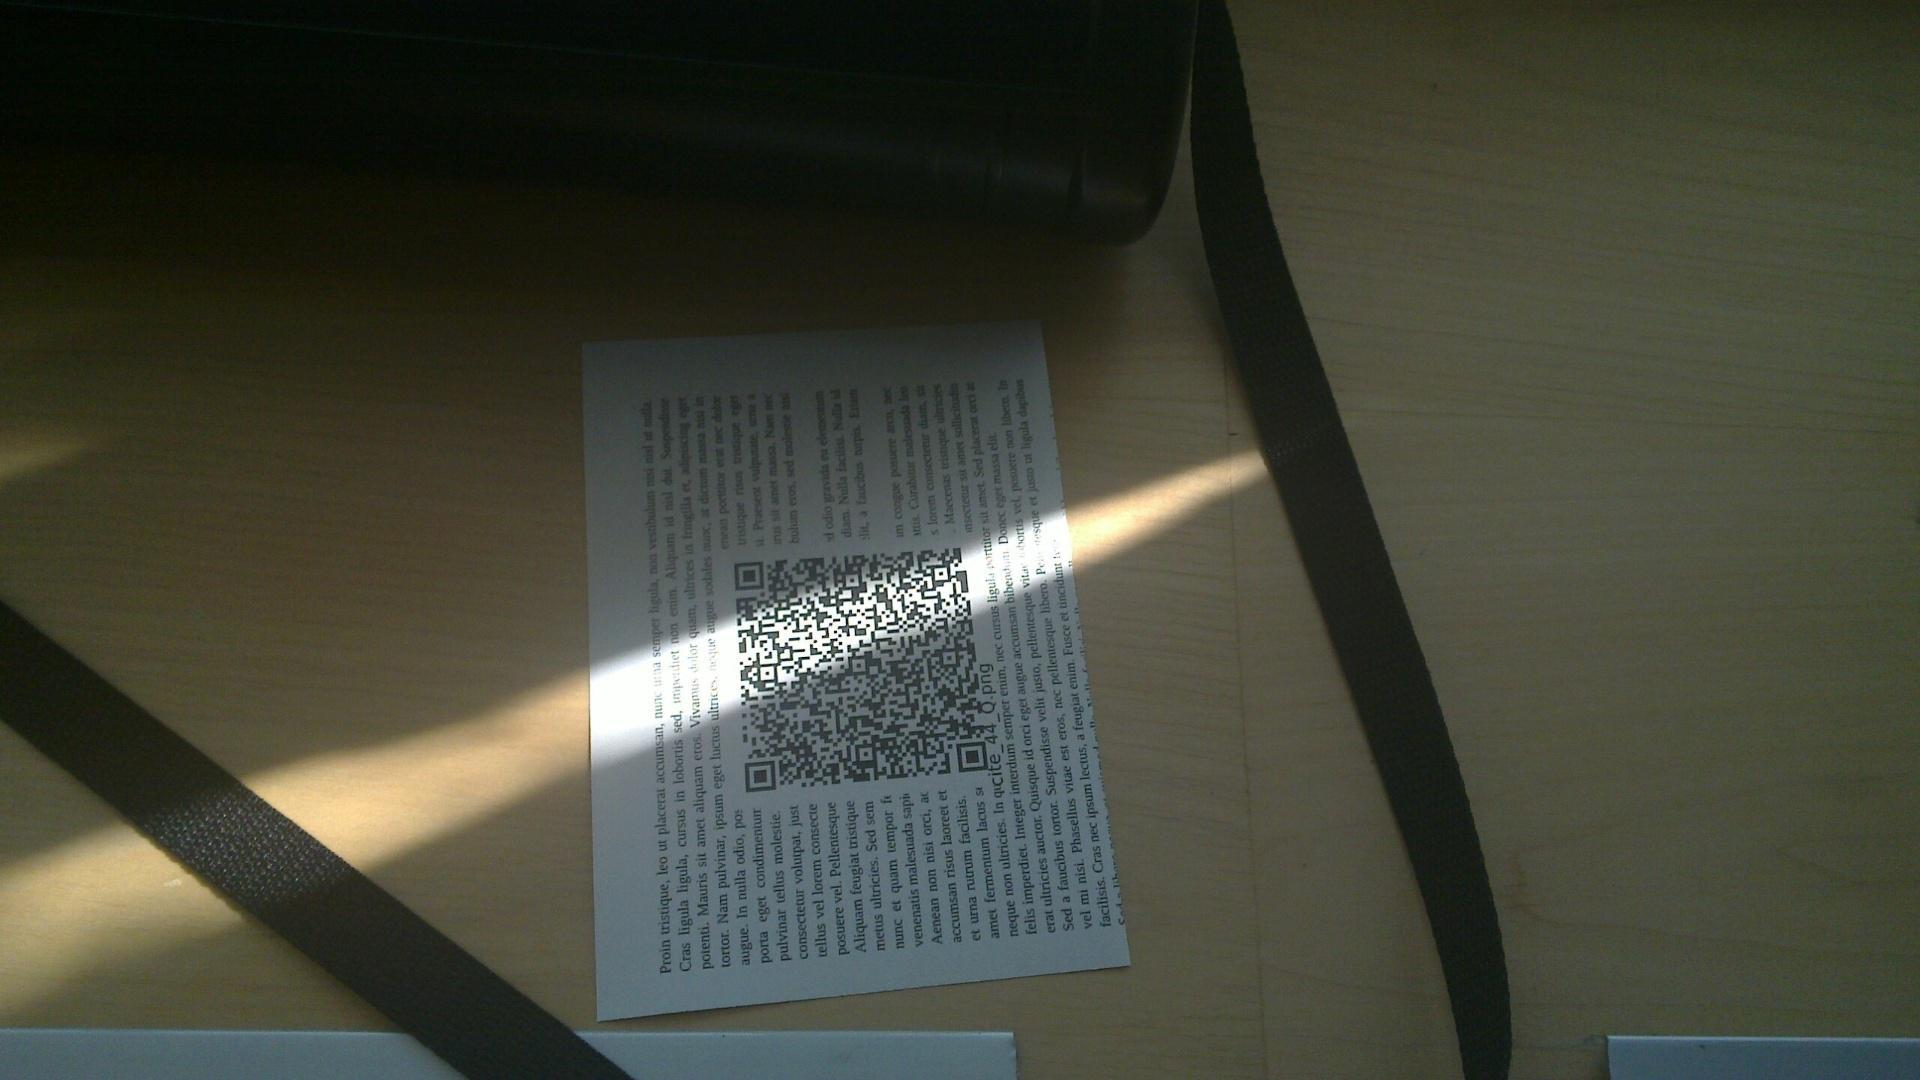Finder pattern: (741, 756, 781, 796), (953, 738, 989, 774), (729, 558, 765, 591)
